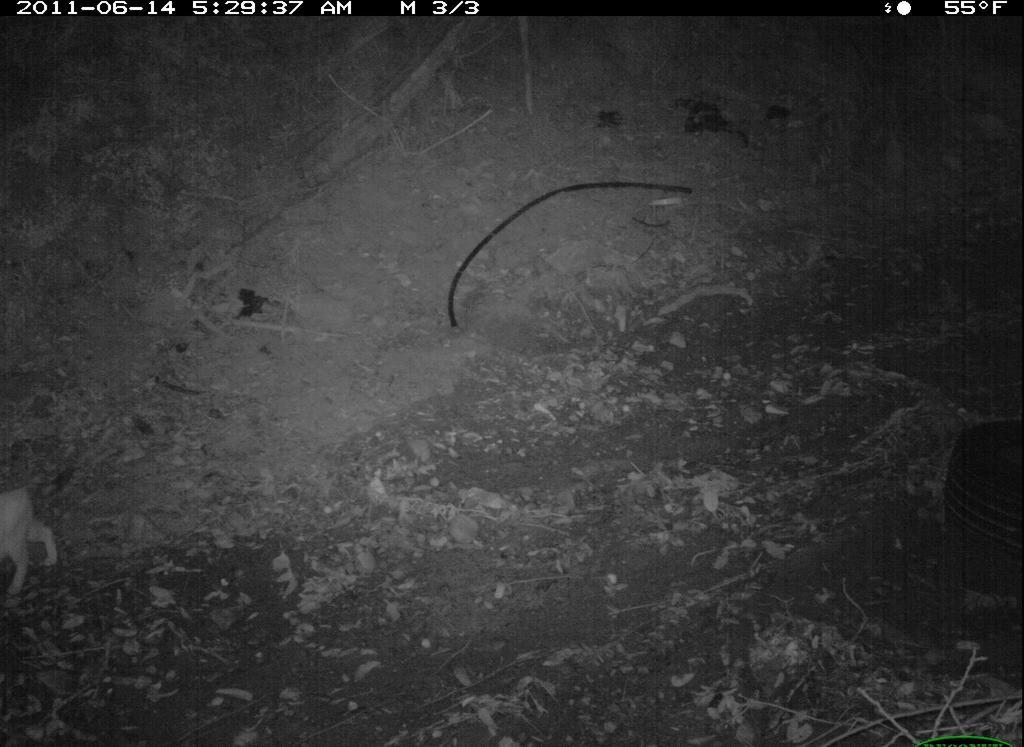cat: (6, 454, 90, 602)
